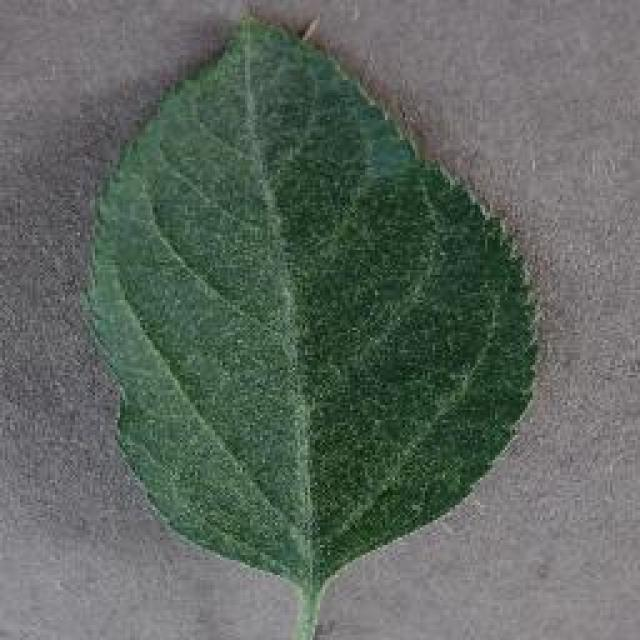Apple___healthy: (77, 5, 547, 603)
